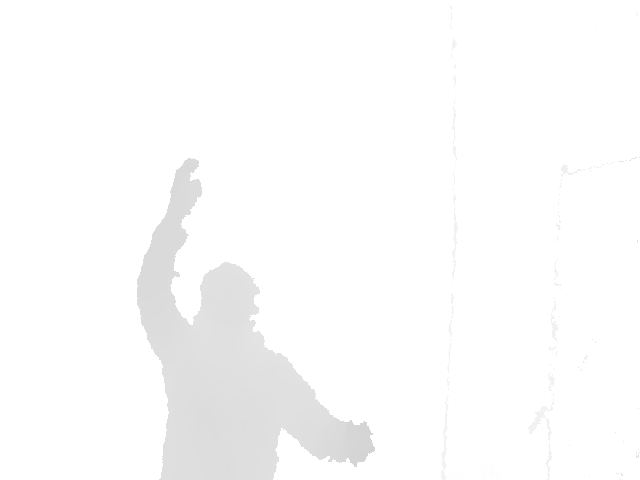hand: (163, 157, 203, 224)
head: (191, 261, 261, 327)
person: (135, 157, 377, 480)
